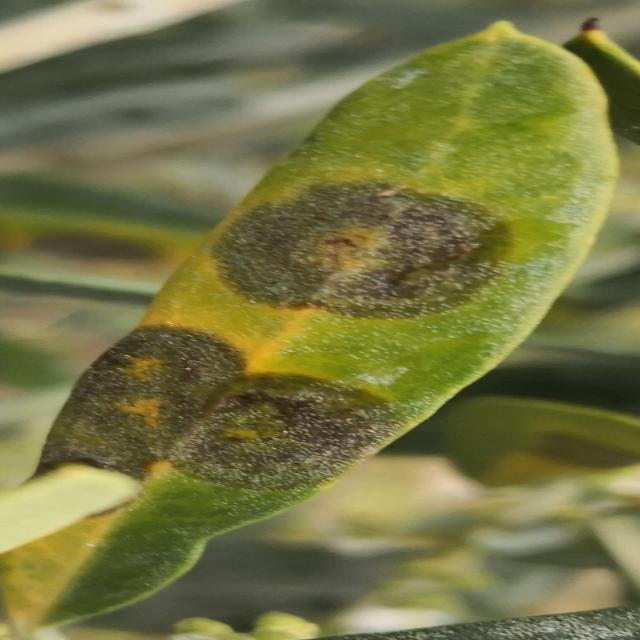OlivePeacockSpot: (41, 22, 581, 624)
